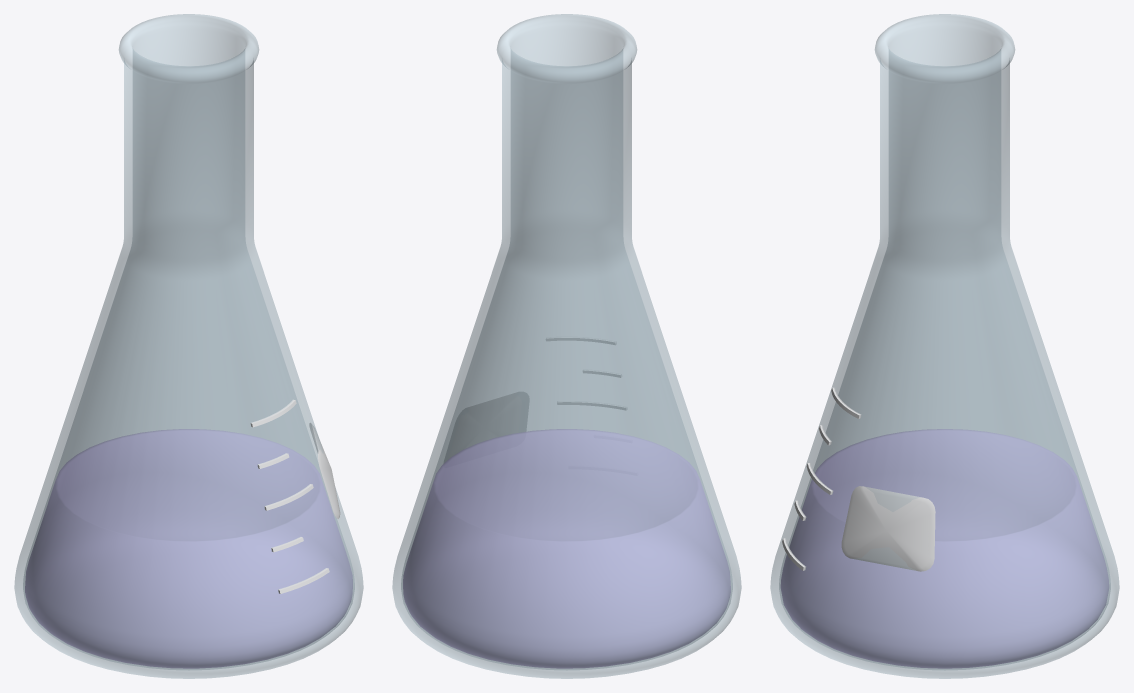
Rendered from erlenmeyer-flask.glb.
3 views of the same model, side by side, from view 1: azimuth 30°, elevation 25°; view 2: azimuth 150°, elevation 25°; view 3: azimuth 270°, elevation 25° (orthographic).
Visible parts, largest first — view 1: erlenmeyer-flask_flask_glass, erlenmeyer-flask_liquid_fluid, erlenmeyer-flask_body; view 2: erlenmeyer-flask_flask_glass, erlenmeyer-flask_liquid_fluid, erlenmeyer-flask_body; view 3: erlenmeyer-flask_flask_glass, erlenmeyer-flask_liquid_fluid, erlenmeyer-flask_body.
Part boxes in pixels (x1=…): erlenmeyer-flask_flask_glass: x1=14, y1=14, x2=363, y2=678; erlenmeyer-flask_liquid_fluid: x1=25, y1=429, x2=352, y2=668; erlenmeyer-flask_body: x1=250, y1=399, x2=340, y2=593; erlenmeyer-flask_flask_glass: x1=392, y1=14, x2=741, y2=678; erlenmeyer-flask_liquid_fluid: x1=403, y1=429, x2=730, y2=668; erlenmeyer-flask_body: x1=444, y1=337, x2=627, y2=462; erlenmeyer-flask_flask_glass: x1=770, y1=14, x2=1119, y2=678; erlenmeyer-flask_liquid_fluid: x1=780, y1=429, x2=1109, y2=668; erlenmeyer-flask_body: x1=782, y1=387, x2=935, y2=571.
Bounding box in the file's own units: 0.078 × 0.1421 × 0.078.
3 materials, 1 textured.
